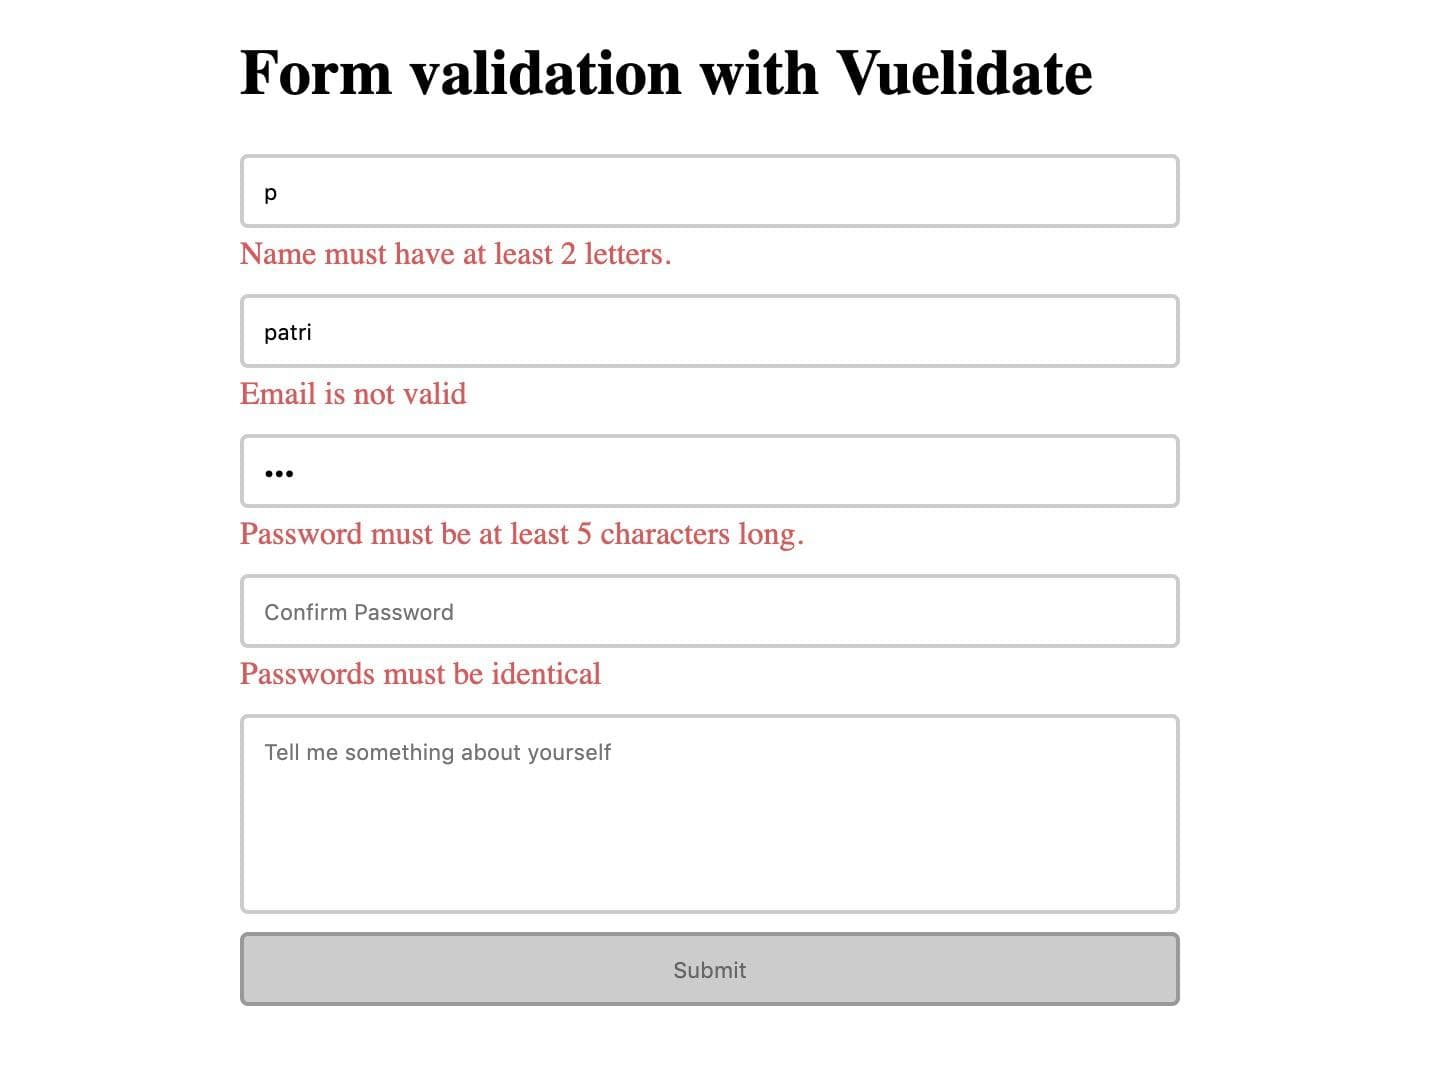error_message: (238, 518, 807, 552), (237, 658, 602, 692), (239, 241, 670, 267), (239, 379, 473, 409)
